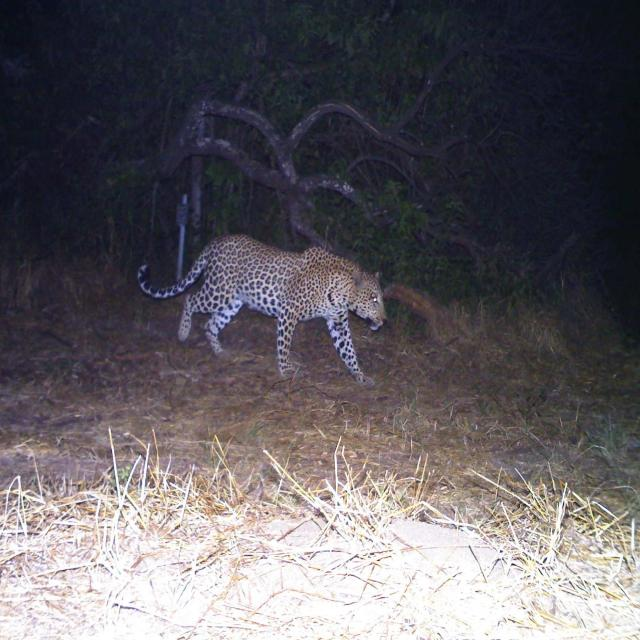Leopard: (136, 227, 391, 382)
